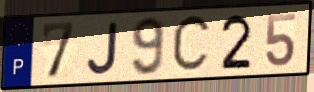2: (219, 13, 253, 72)
5: (264, 11, 299, 68)
7: (41, 20, 77, 82)
9: (130, 15, 166, 78)
C: (170, 11, 214, 77)
J: (85, 20, 121, 77)
